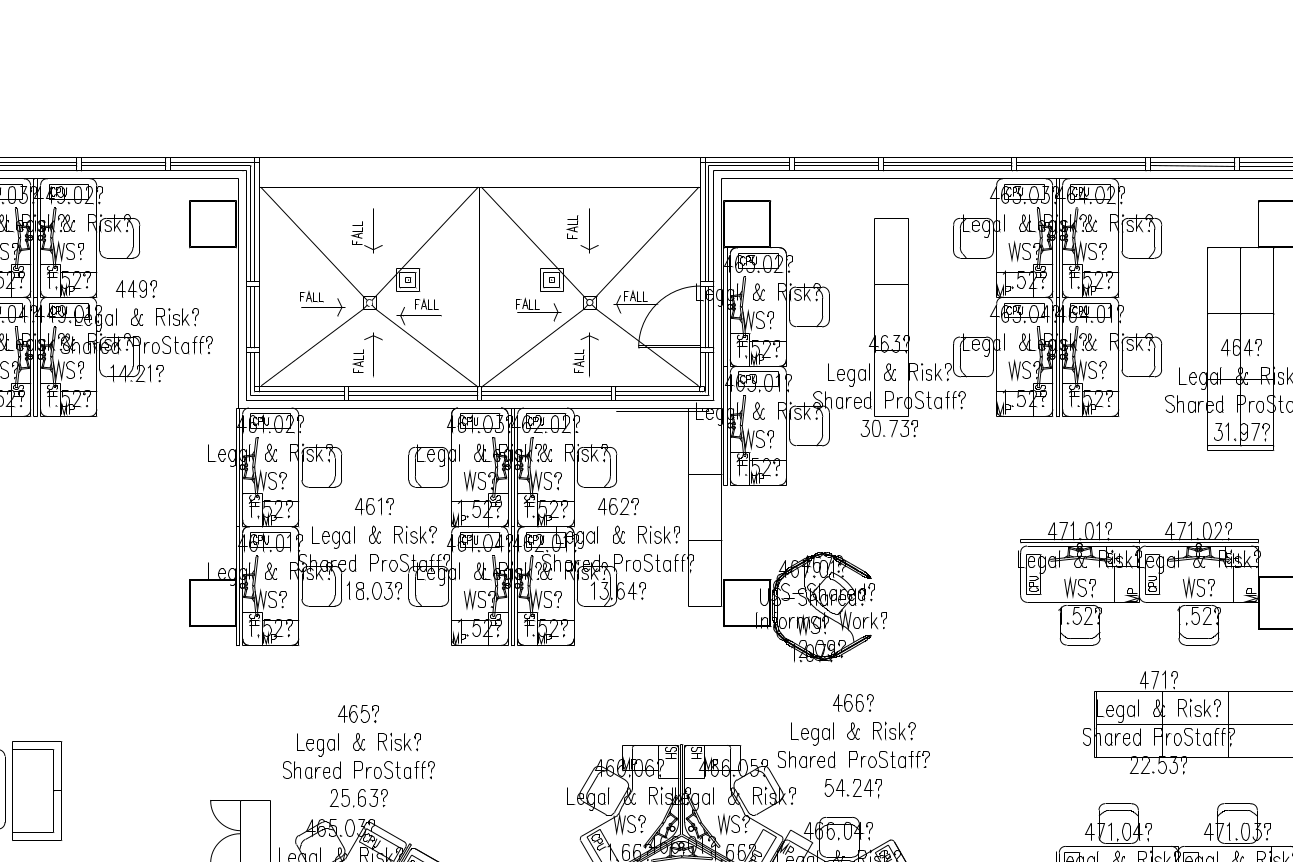door: (633, 275, 701, 354)
